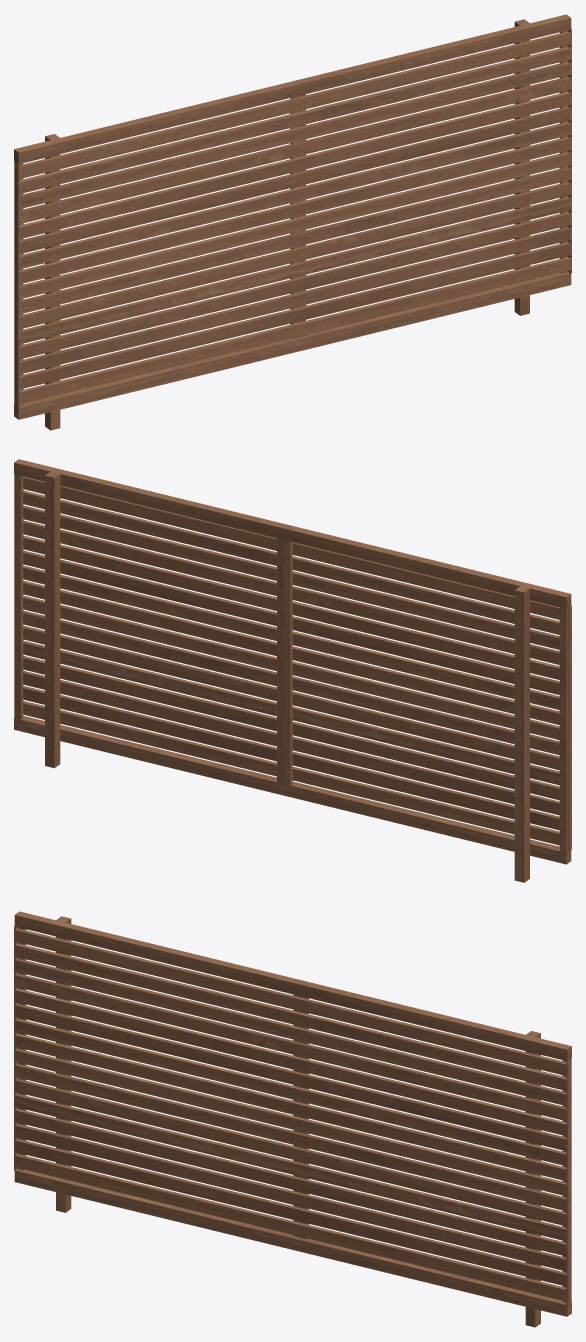
Rendered from dsf_yoko40_h1000_jara.fbx.
3 views of the same model, one above another, from view 1: azimuth 30°, elevation 25°; view 2: azimuth 150°, elevation 25°; view 3: azimuth 330°, elevation 25° (orthographic).
Parts seen in each view (by area): view 1: dsf_yoko40_h1000_jara; view 2: dsf_yoko40_h1000_jara; view 3: dsf_yoko40_h1000_jara.
Part boxes in pixels (<box>): dsf_yoko40_h1000_jara: <box>14,14,571,430</box>; dsf_yoko40_h1000_jara: <box>14,459,571,882</box>; dsf_yoko40_h1000_jara: <box>14,911,571,1327</box>.
Bounding box in the file's own units: 200 × 100 × 6.55.
Materials: 1 (1 with a texture image).
